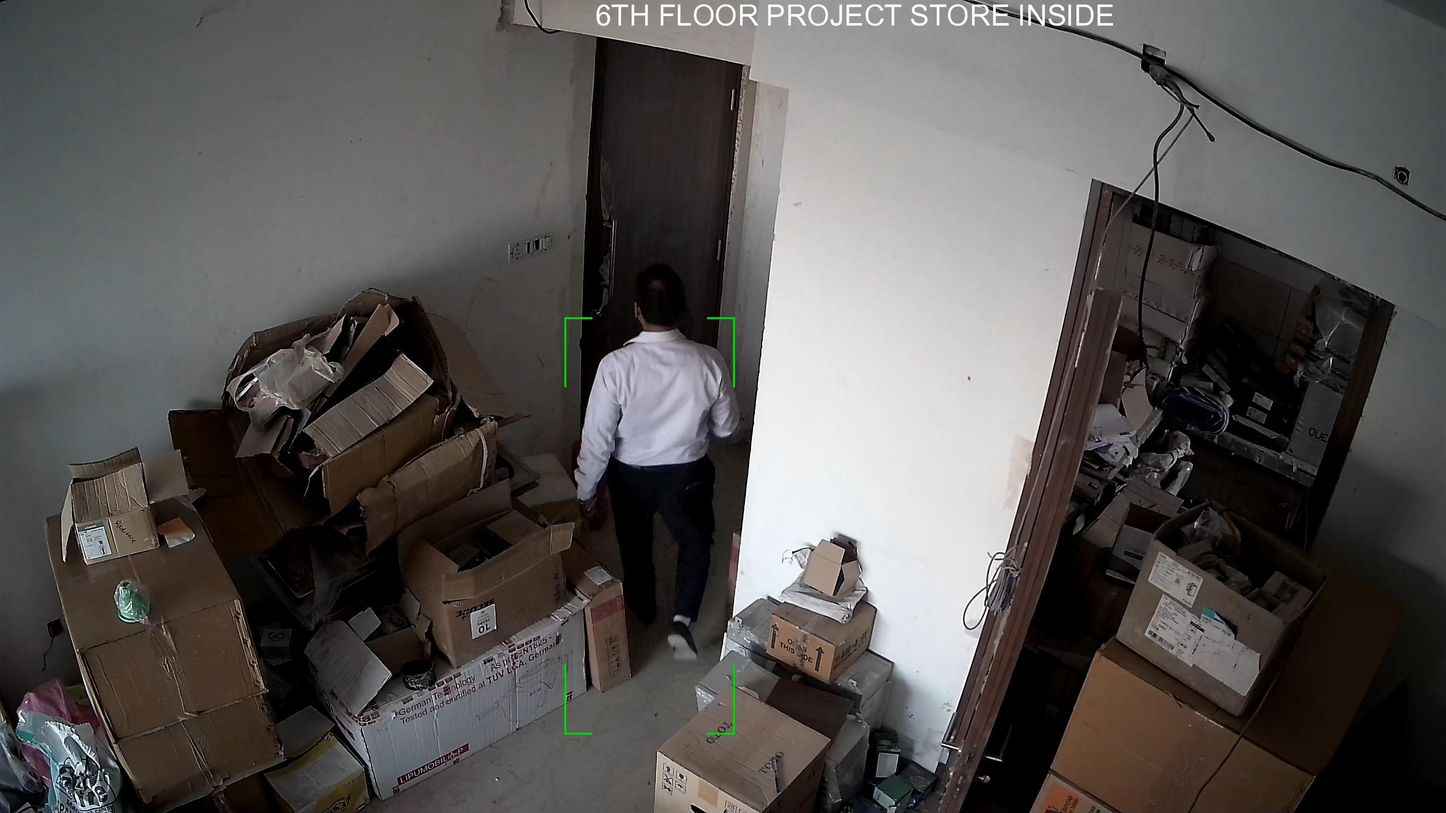Door-Close: (556, 30, 756, 477)
